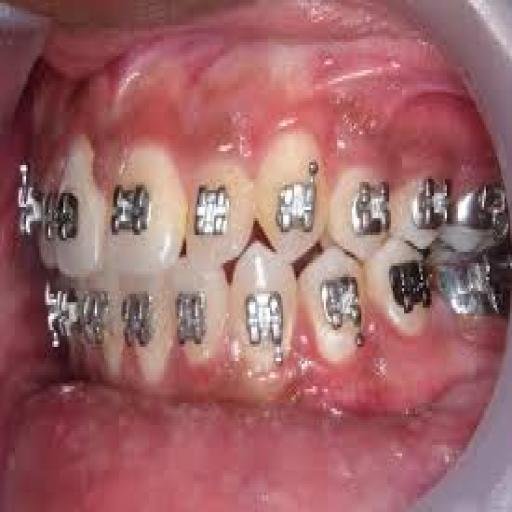correct_brace: (229, 236, 302, 388), (257, 124, 327, 269), (315, 270, 370, 358), (242, 282, 289, 371), (108, 182, 158, 240), (194, 178, 233, 242)
incorrect_brace: (102, 139, 186, 283), (274, 155, 322, 238)
